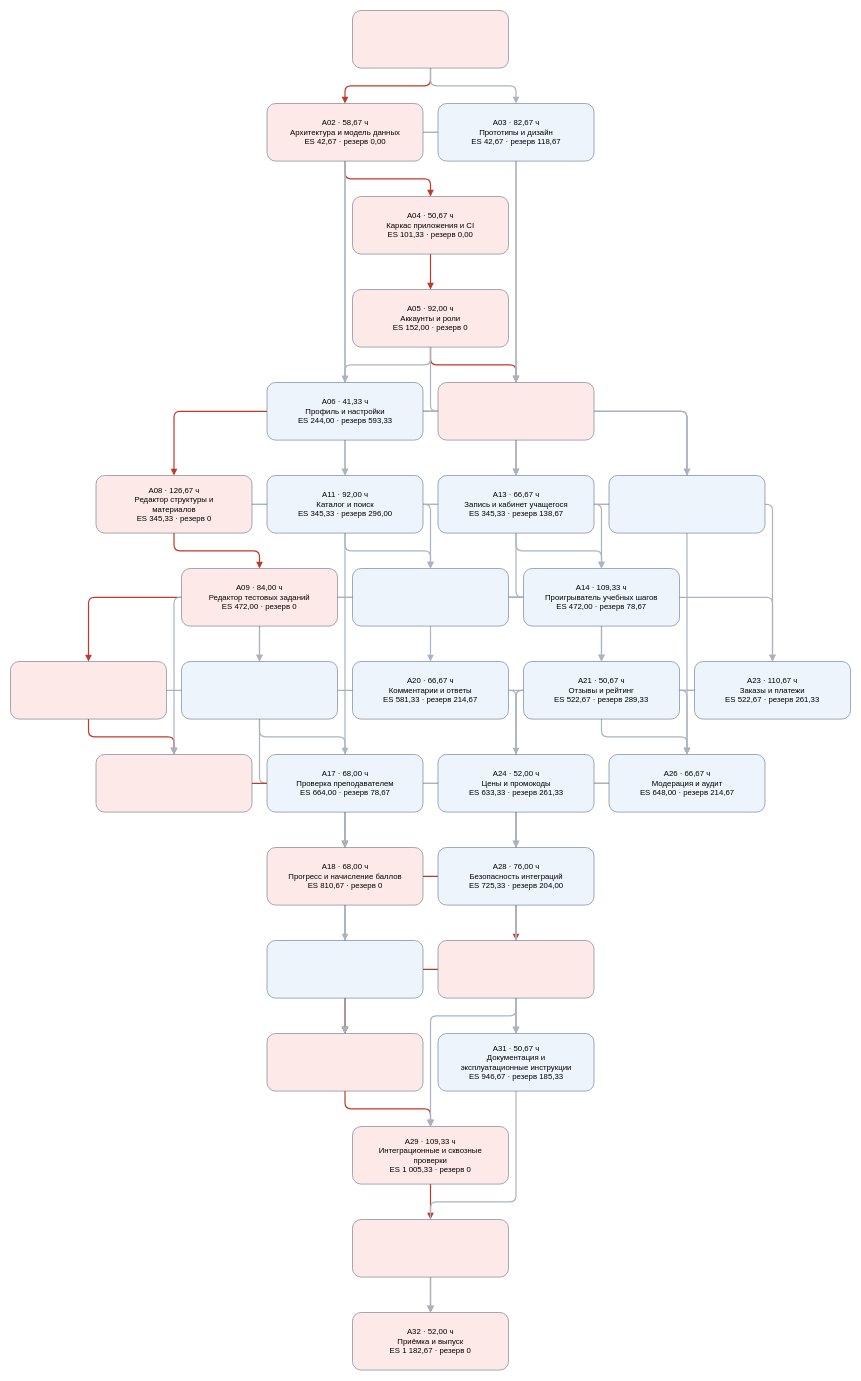
Some shapes in this 861 by 1381 pixel diagram are drawn without their labels. Each missing label, with the centre of its shape:
"A01 · 42,67 ч Сбор и анализ требований ES 0 · резерв 0,00" belongs at (x=430, y=39).
"A07 · 101,33 ч Редактор курса и категории ES 244,00 · резерв 0" belongs at (x=515, y=411).
"A10 · 169,33 ч Интеграция проверки кода ES 556,00 · резерв 0" belongs at (x=88, y=690).
"A12 · 50,67 ч Карточка курса ES 472,00 · резерв 261,33" belongs at (x=430, y=597).
"A15 · 82,67 ч Приём и проверка тестовых ответов ES 581,33 · резерв 78,67" belongs at (x=259, y=690).
"A16 · 85,33 ч Интерфейс решения задач на код ES 725,33 · резерв 0" belongs at (x=173, y=783).
"A19 · 58,67 ч Выдача сертификатов ES 878,67 · резерв 9,33" belongs at (x=344, y=969).
"A22 · 68,00 ч Новости и уведомления ES 345,33 · резерв 533,33" belongs at (x=686, y=504).
"A25 · 68,00 ч Отчёты преподавателя ES 878,67 · резерв 0" belongs at (x=515, y=969).
"A27 · 58,67 ч Проверка адаптивности и доступности ES 946,67 · резерв 0" belongs at (x=344, y=1062).
"A30 · 68,00 ч Нагрузка и оптимизация ES 1 114,67 · резерв 0" belongs at (x=430, y=1248).
